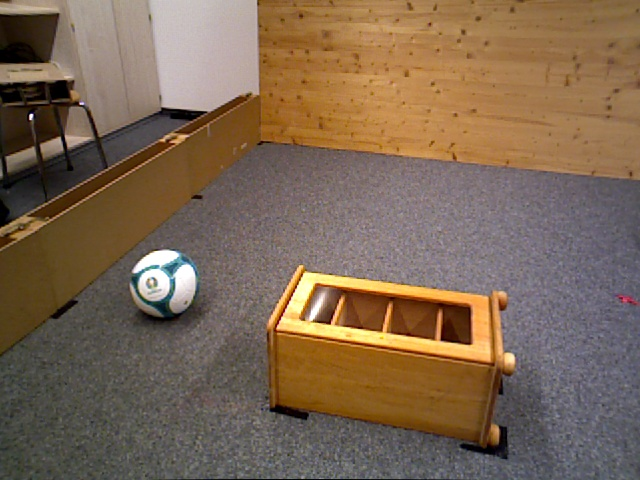kick: (129, 249, 199, 320)
